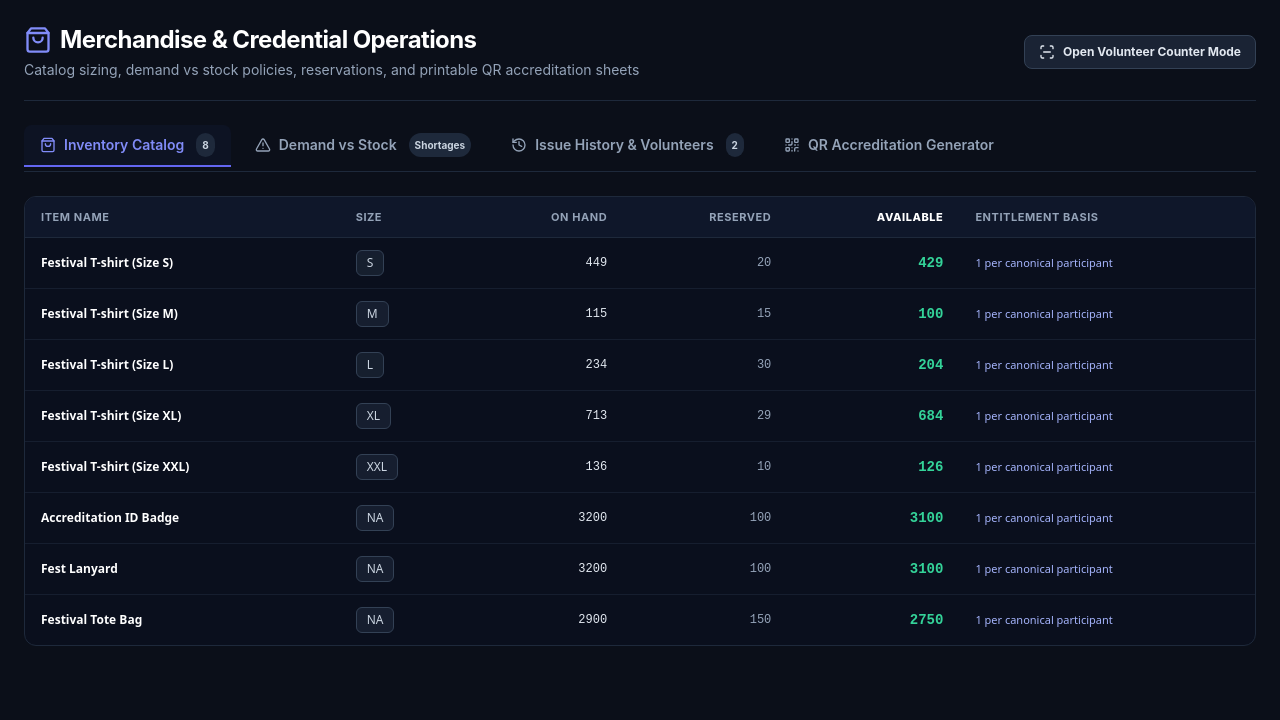
Test case: Operations UI Workspaces (Prompt 12) › Merchandise: Volunteer Counter Mode & Result States › renders admin catalog with size-wise demand vs stock and policy note
The image size is (1280, 720).
Expected: the text "Festival T-shirt (Size S)" is shown, [25,238,340,288]
Expected: the text "Festival T-shirt (Size XL)" is shown, [25,390,340,442]
Check sizing tab and policy note
Click the button "Demand vs Stock Shortages" at (363, 146), box [239,125,487,167]
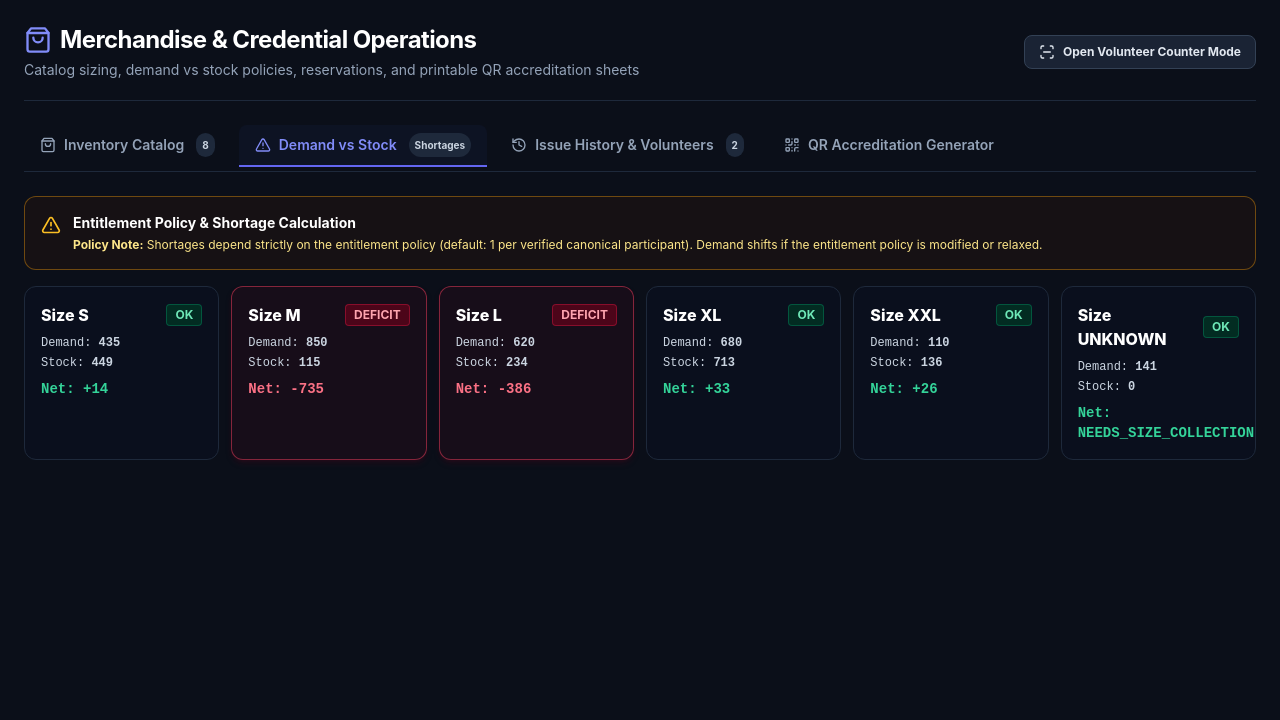
Result: the text "Entitlement Policy & Shortage Calculation" is shown at [73,214,356,231]
Result: the text "Shortages depend strictly on the entitlement policy" is shown at [143,237,1042,252]
Result: the 1st text "DEFICIT" is shown at [345,304,410,326]
